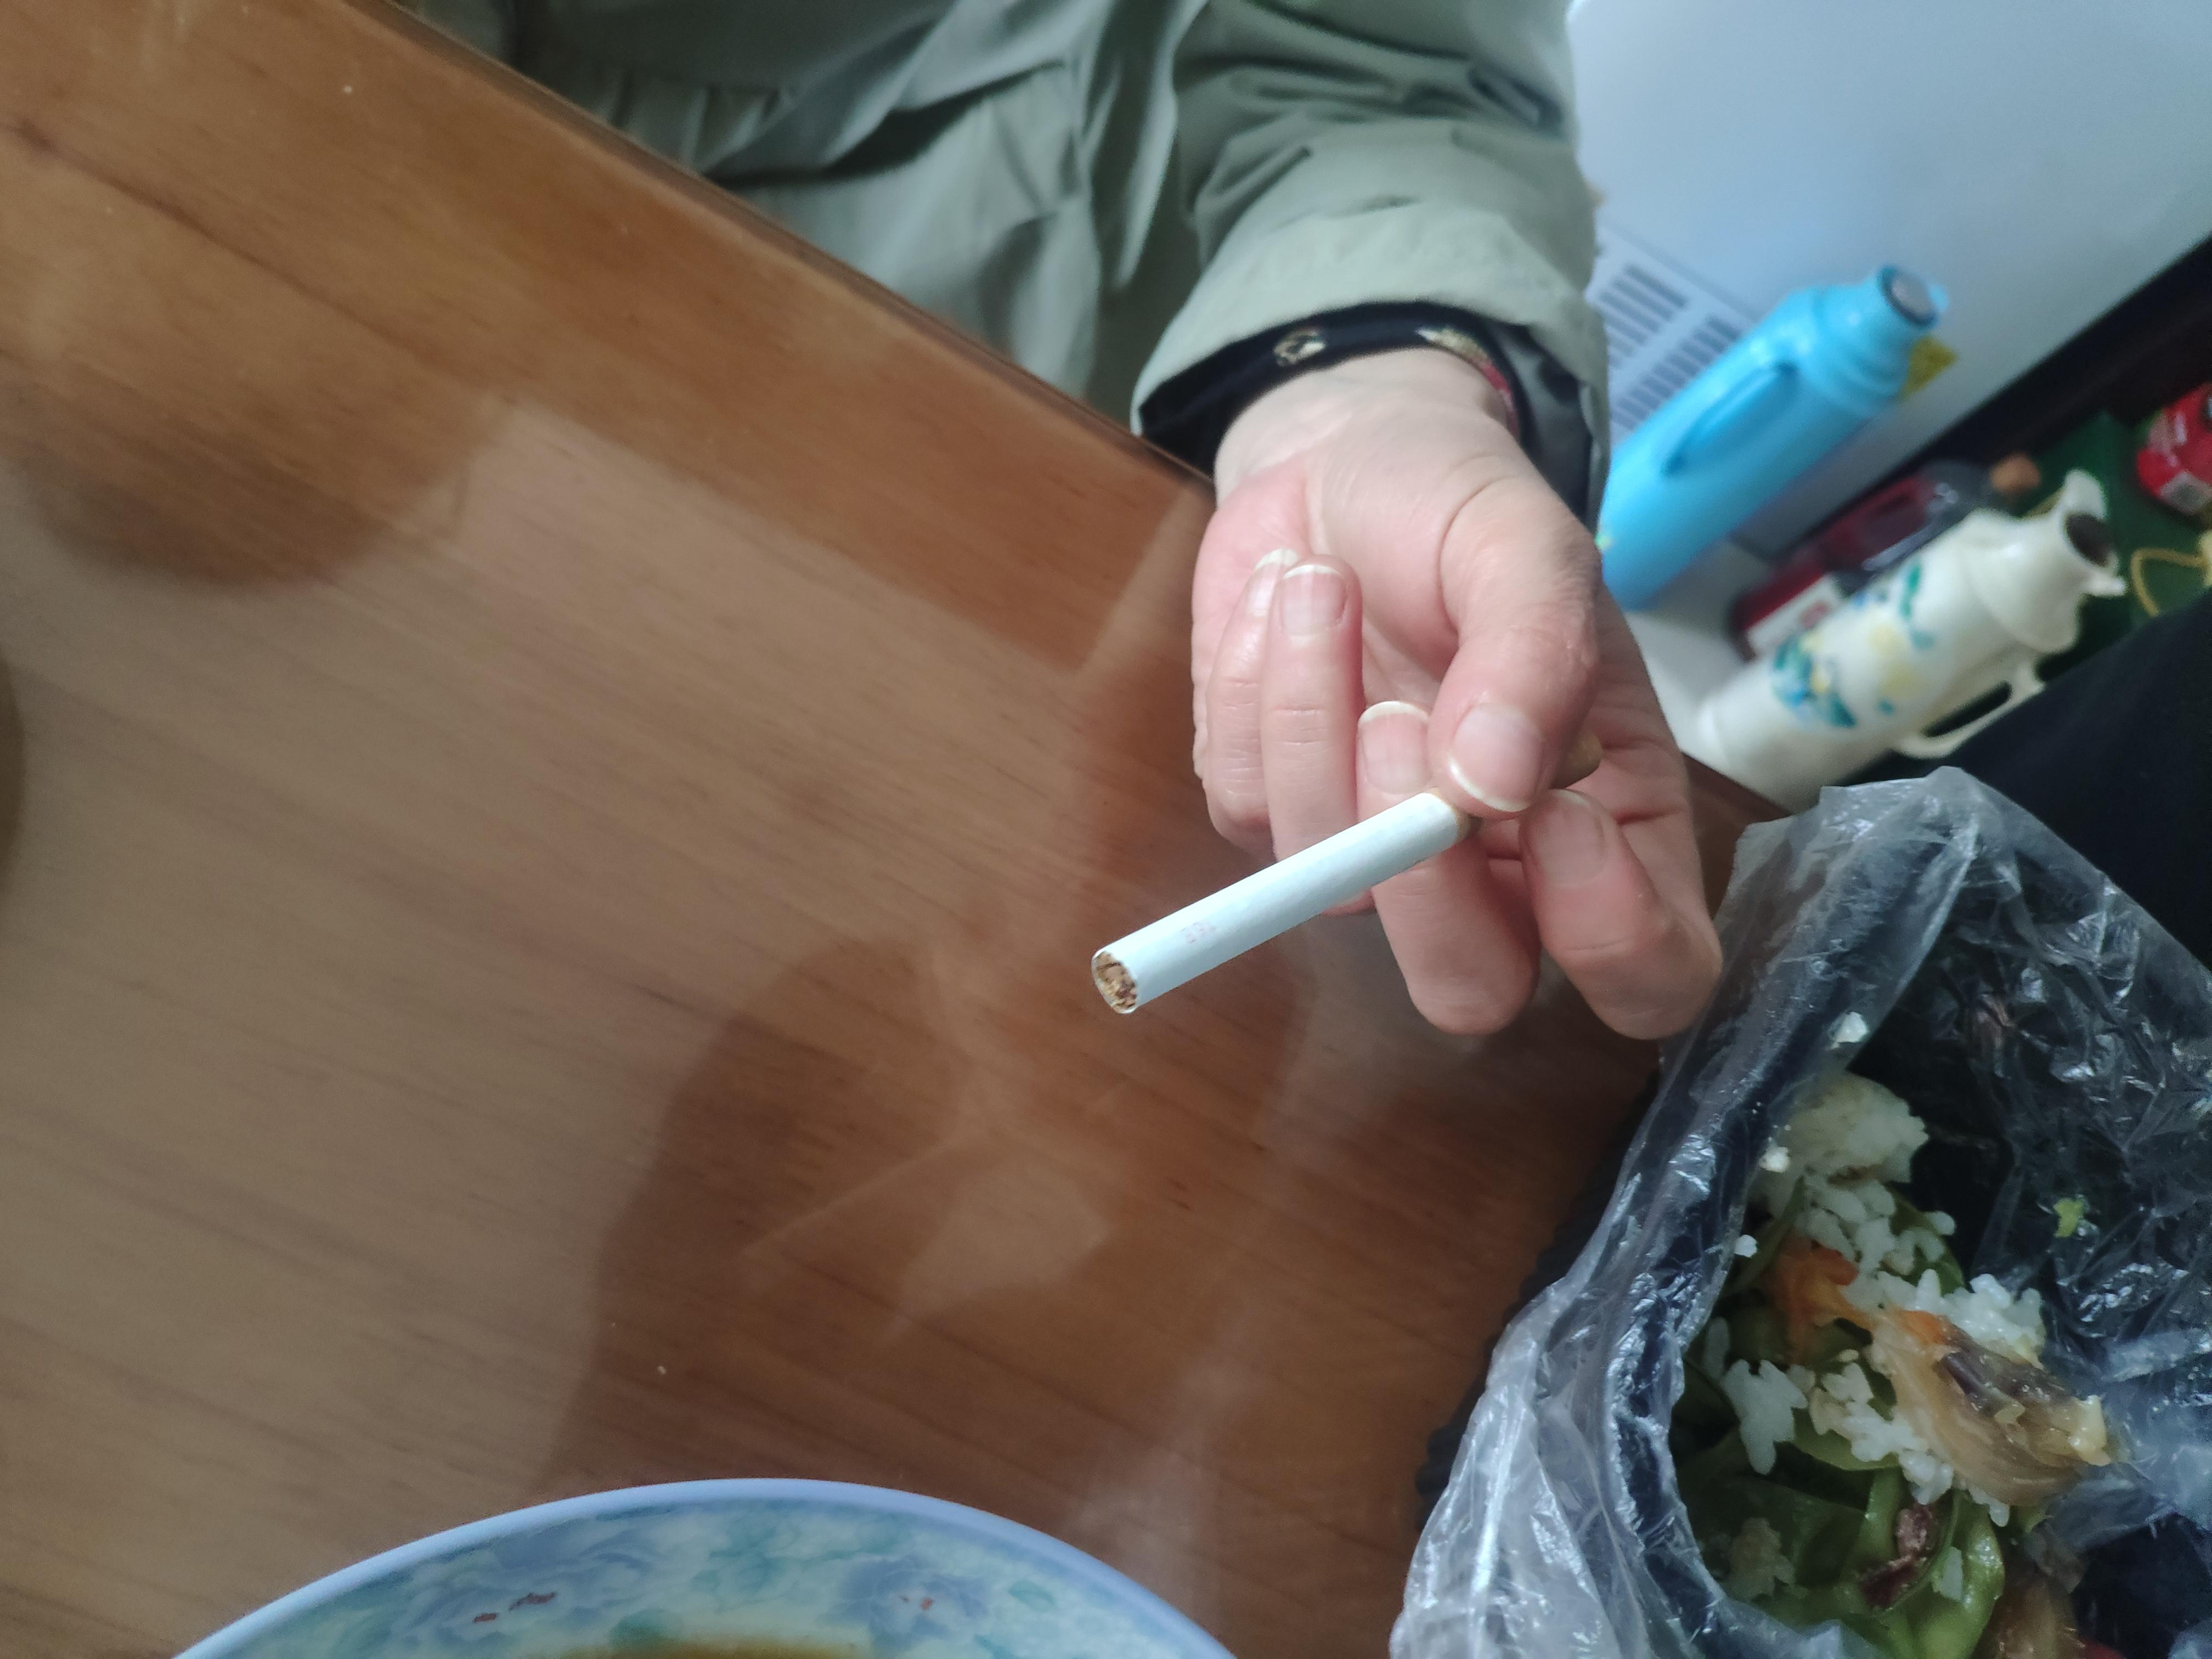smoke: (1090, 725, 1608, 1014)
